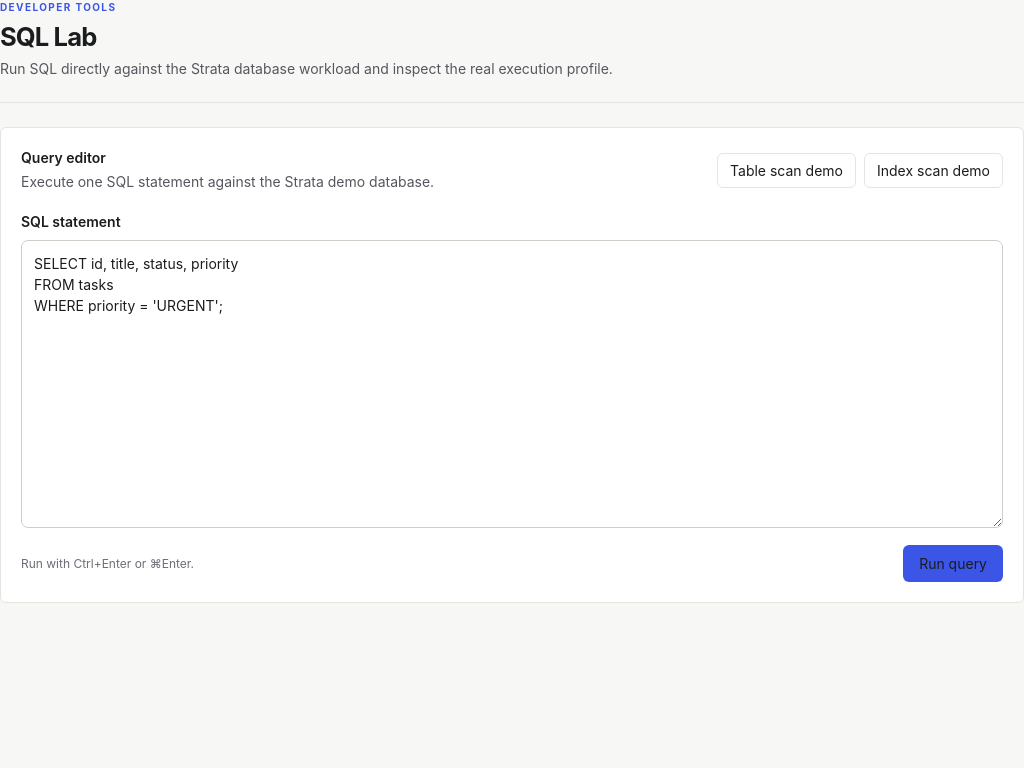
Test: SqlConsolePage › keeps a previous result during a later run and after its failure
Step 1. Click the button "Run query" → (953, 564), box [903,545,1003,582]
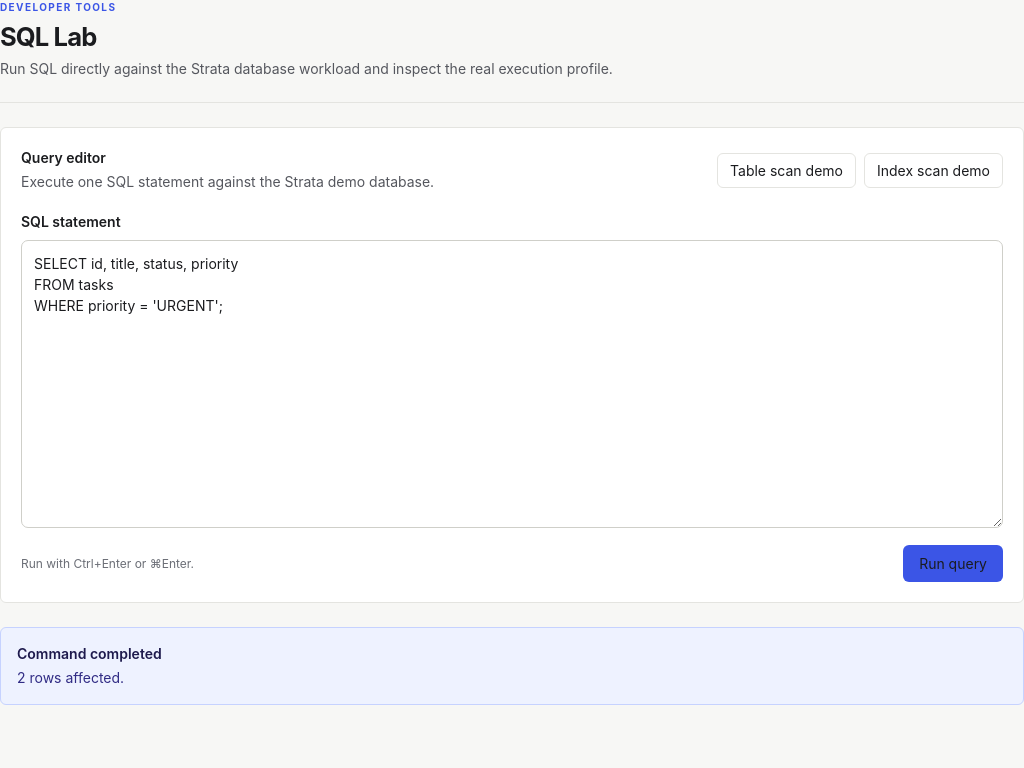
Result: the text "2 rows affected." is shown at [17,669,124,686]
Step 2. Click the button "Run query" → (953, 564), box [903,545,1003,582]
(page scrolled)
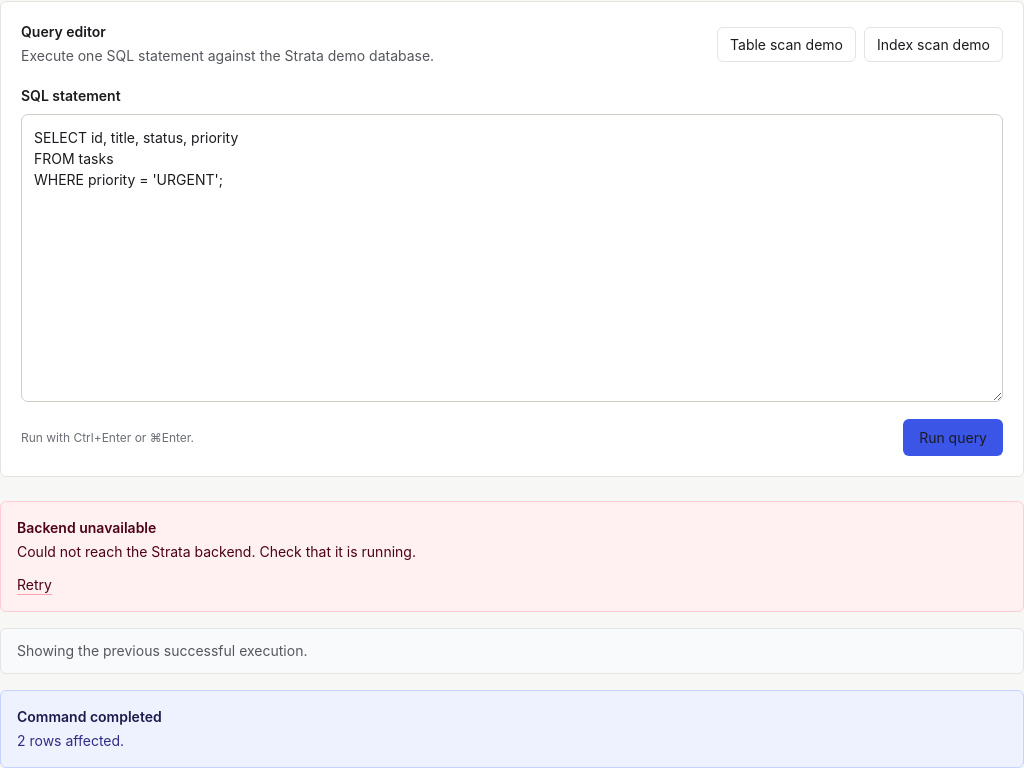
Result: the text "2 rows affected." is shown at [17,732,124,749]
Result: the message shows "Backend unavailable" at [17,519,156,536]
